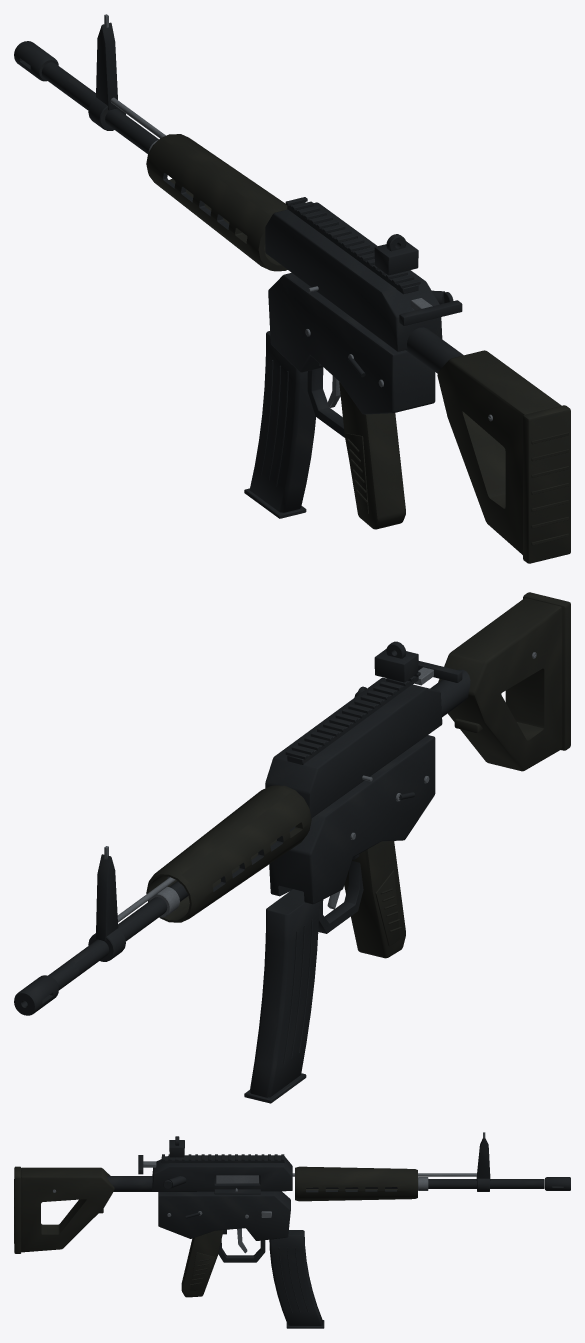
Rendered from assault_rifle_realistic.glb.
3 renders of one model, top to bottom at view 1: azimuth 30°, elevation 25°; view 2: azimuth 150°, elevation 25°; view 3: azimuth 270°, elevation 25°, orthographic. The views are drawn at different scales.
Visible parts, largest first — view 1: Extended stock, Lower receiver, Upper receiver, Handguard, Curved 5.56 magazine, Butt recoil pad, Pistol grip, Barrel, Front sight tower, Receiver extension, Trigger guard, Rear sight base (+4 smaller); view 2: Extended stock, Lower receiver, Handguard, Upper receiver, Curved 5.56 magazine, Pistol grip, Barrel, Butt recoil pad, Front sight tower, Trigger guard, Flash hider, Rear sight base (+3 smaller); view 3: Extended stock, Lower receiver, Handguard, Upper receiver, Curved 5.56 magazine, Pistol grip, Barrel, Butt recoil pad, Rail dovetail, Receiver extension, Grip moulded insert.001, Trigger guard (+5 smaller).
Part boxes in pixels (x1,y1,x2,y2): Extended stock: (437, 350, 561, 554); Lower receiver: (268, 272, 435, 414); Upper receiver: (265, 202, 442, 351); Handguard: (146, 134, 287, 271); Curved 5.56 magazine: (249, 331, 315, 512); Butt recoil pad: (523, 405, 570, 563); Pistol grip: (339, 382, 405, 529); Barrel: (63, 78, 158, 153); Front sight tower: (96, 22, 117, 110); Receiver extension: (405, 327, 463, 373); Trigger guard: (307, 364, 344, 437); Rear sight base: (374, 241, 418, 275); Extended stock: (438, 598, 562, 771); Lower receiver: (269, 735, 435, 904); Handguard: (146, 785, 311, 922); Upper receiver: (265, 677, 442, 818); Curved 5.56 magazine: (249, 889, 319, 1097); Pistol grip: (344, 841, 405, 958); Barrel: (67, 881, 188, 975); Butt recoil pad: (523, 592, 570, 750); Front sight tower: (96, 854, 118, 941); Trigger guard: (318, 854, 363, 933); Flash hider: (14, 975, 58, 1015); Rear sight base: (374, 649, 418, 682); Extended stock: (21, 1167, 114, 1252); Lower receiver: (158, 1191, 290, 1240); Handguard: (295, 1166, 417, 1201); Upper receiver: (152, 1155, 292, 1191); Curved 5.56 magazine: (269, 1230, 322, 1325); Pistol grip: (181, 1230, 223, 1297); Barrel: (306, 1179, 521, 1188); Butt recoil pad: (14, 1166, 21, 1253); Rail dovetail: (161, 1156, 284, 1163); Receiver extension: (107, 1176, 152, 1191); Grip moulded insert.001: (190, 1252, 215, 1290); Trigger guard: (218, 1229, 265, 1262).
Bounding box in the file's own units: 0.0815 × 0.367 × 0.9608.
4 materials, 4 textured.
